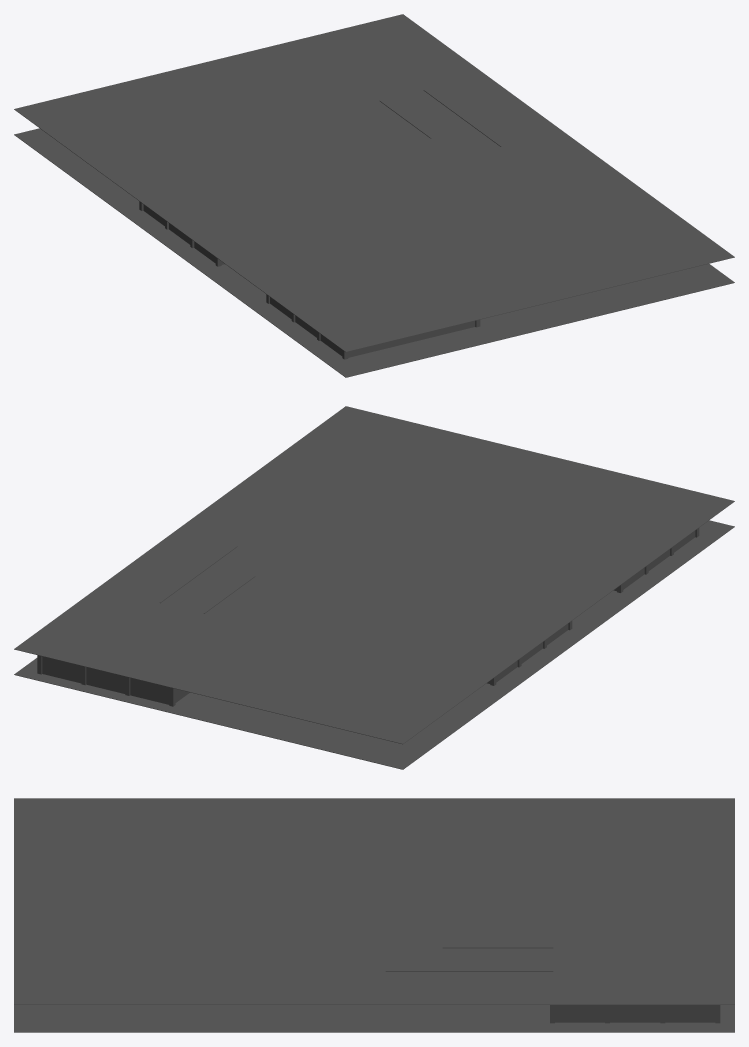
Rendered from stageCollider.fbx.
3 views of the same model, one above another, from view 1: azimuth 30°, elevation 25°; view 2: azimuth 150°, elevation 25°; view 3: azimuth 270°, elevation 25° (orthographic). The views are drawn at different scales.
Parts seen in each view (by area): view 1: Plate_Full003, Plate_Full001, Box012; view 2: Plate_Full003, Plate_Full001, Box001; view 3: Plate_Full003, Plate_Full001, Box004.
Boxes of the visible parts, box(x1,y1,x2,y2) form: Plate_Full003: box(14, 14, 734, 352); Plate_Full001: box(14, 128, 734, 377); Box012: box(348, 321, 475, 357); Plate_Full003: box(14, 406, 734, 744); Plate_Full001: box(14, 520, 734, 769); Box001: box(42, 656, 169, 704); Plate_Full003: box(14, 798, 734, 1004); Plate_Full001: box(14, 1005, 734, 1032); Box004: box(555, 1005, 715, 1022).
Bounding box in the file's own units: 19499 × 28809 × 1268.
1 material, 1 textured.
